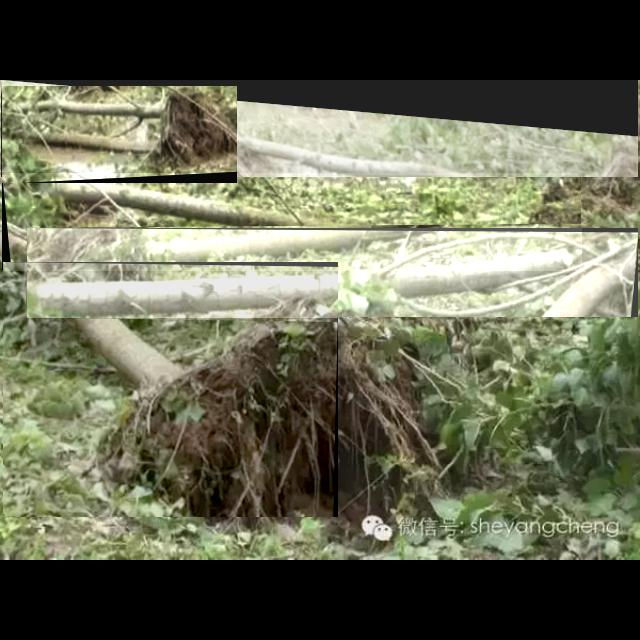Fallen Tree: (3, 262, 339, 518), (1, 80, 639, 178), (2, 173, 582, 271), (27, 228, 639, 318), (2, 86, 238, 184)
